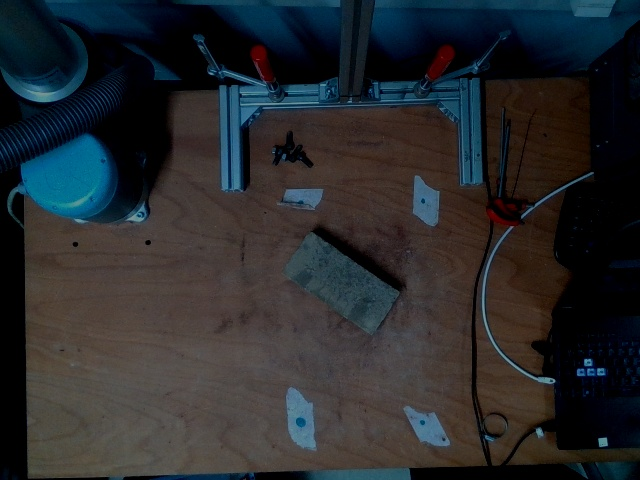brick: (283, 233, 398, 333)
